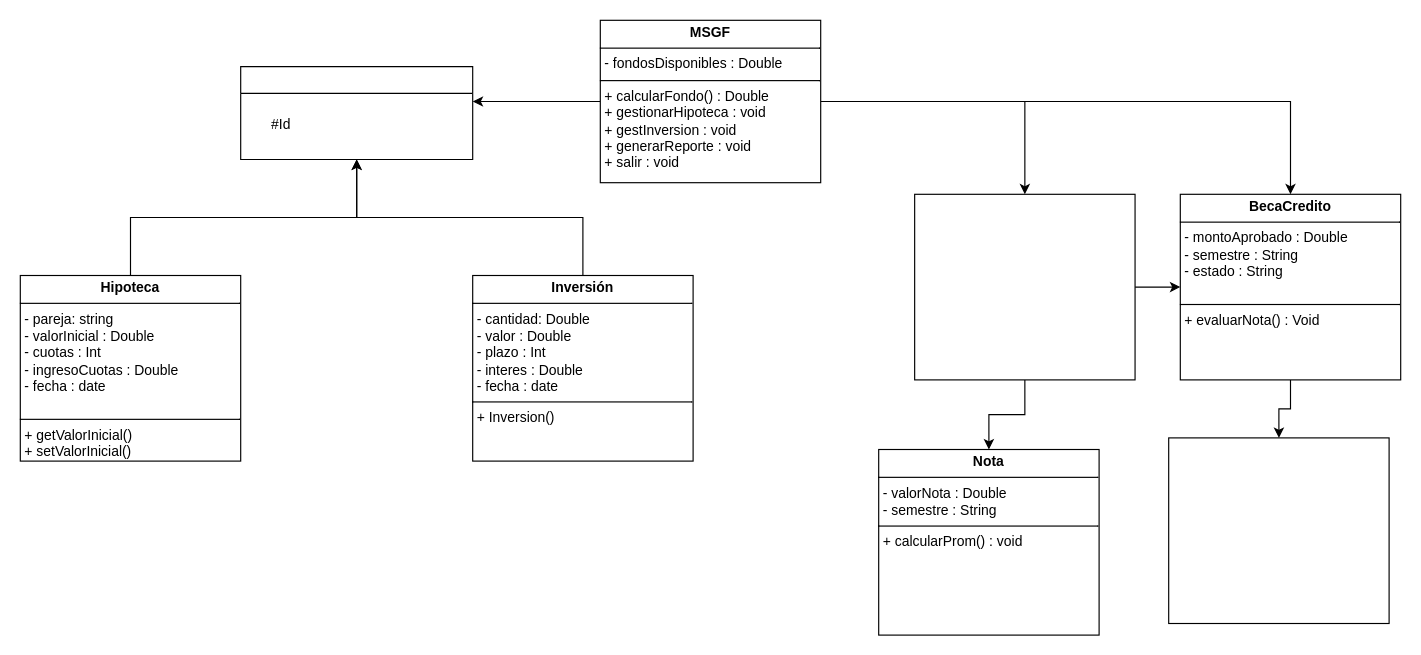
This 1421x655 diagram has some shape labels left out. The shapes that lost their labels are listed below. From the top down, each one's box as (x1, y1, x2, y2) in pixels, then its label:
(240, 66, 473, 160): Activo
(913, 193, 1135, 380): Estudiante - nombre: string - cedula : Double + presentarNotas() : void
(1168, 437, 1389, 624): Matricula - costoSemestre : Double - estado : String + condonar() : void
